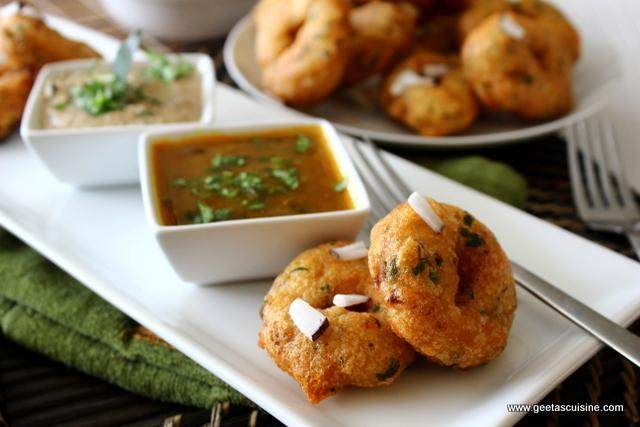mvada: (292, 246, 513, 372)
